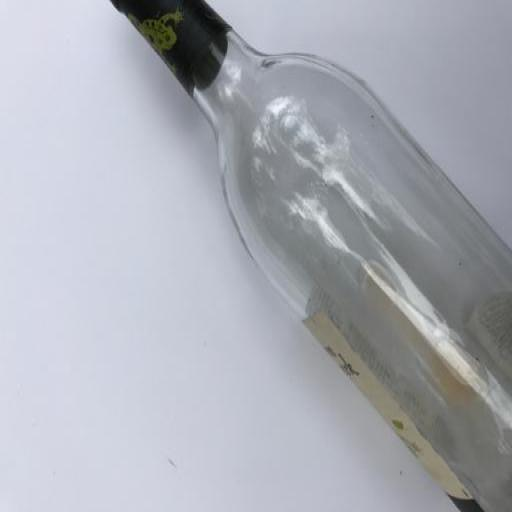glass bottle: (109, 0, 512, 512)
